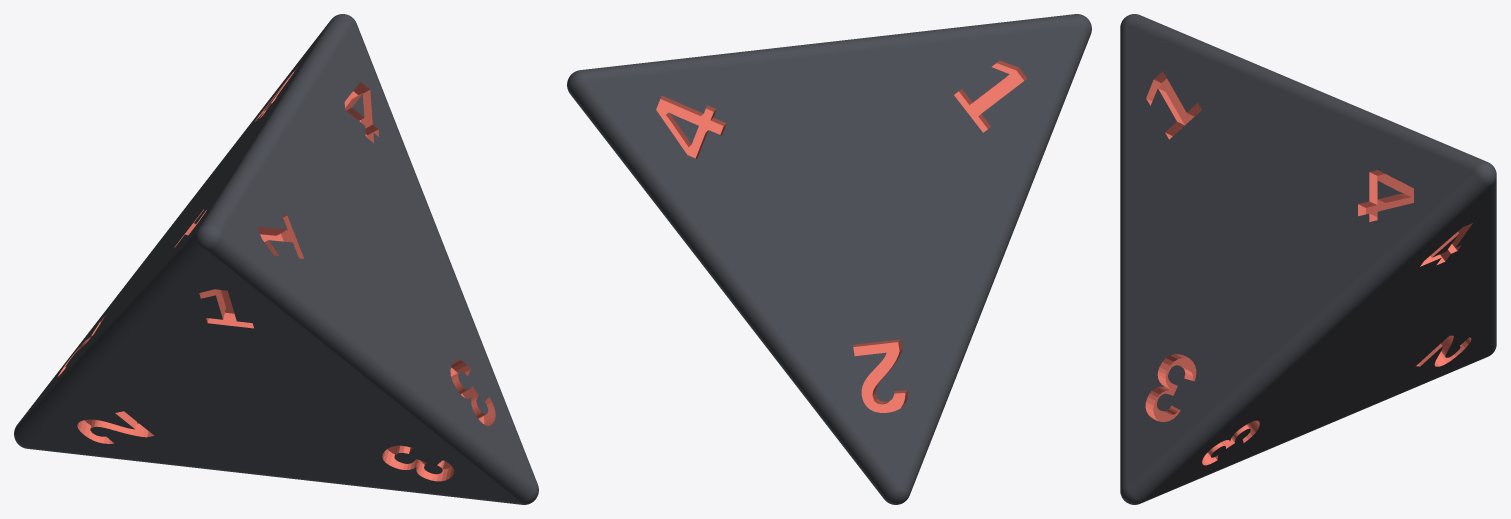
3 renders of one model, left to right at view 1: azimuth 30°, elevation 25°; view 2: azimuth 150°, elevation 25°; view 3: azimuth 270°, elevation 25°, orthographic. The views are drawn at different scales.
Visible parts, largest first — view 1: d4; view 2: d4; view 3: d4.
Boxes of the visible parts, x1,y1,x2,y2 form: d4: (14,14,538,504); d4: (567,14,1091,504); d4: (1120,14,1496,504).
Size of the model in its own units: 26.24 by 26.24 by 26.24.
